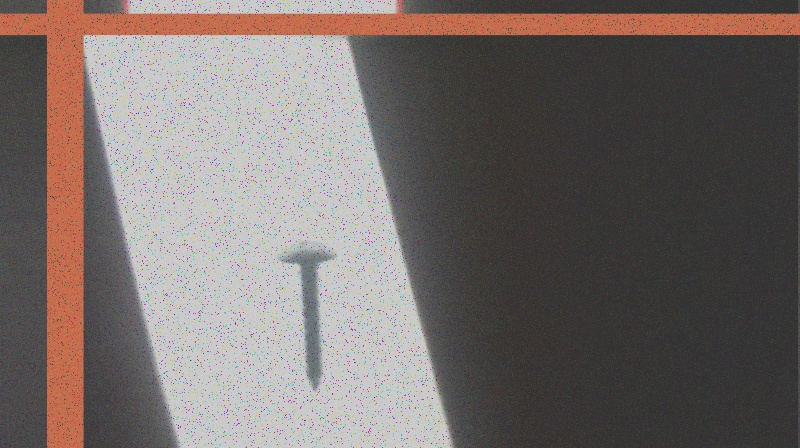S003: (273, 233, 340, 393)
